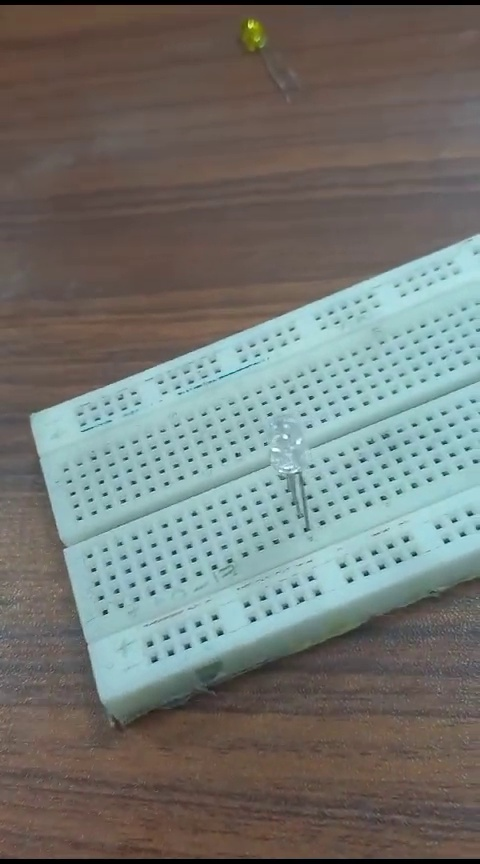LED: (256, 412, 331, 533)
